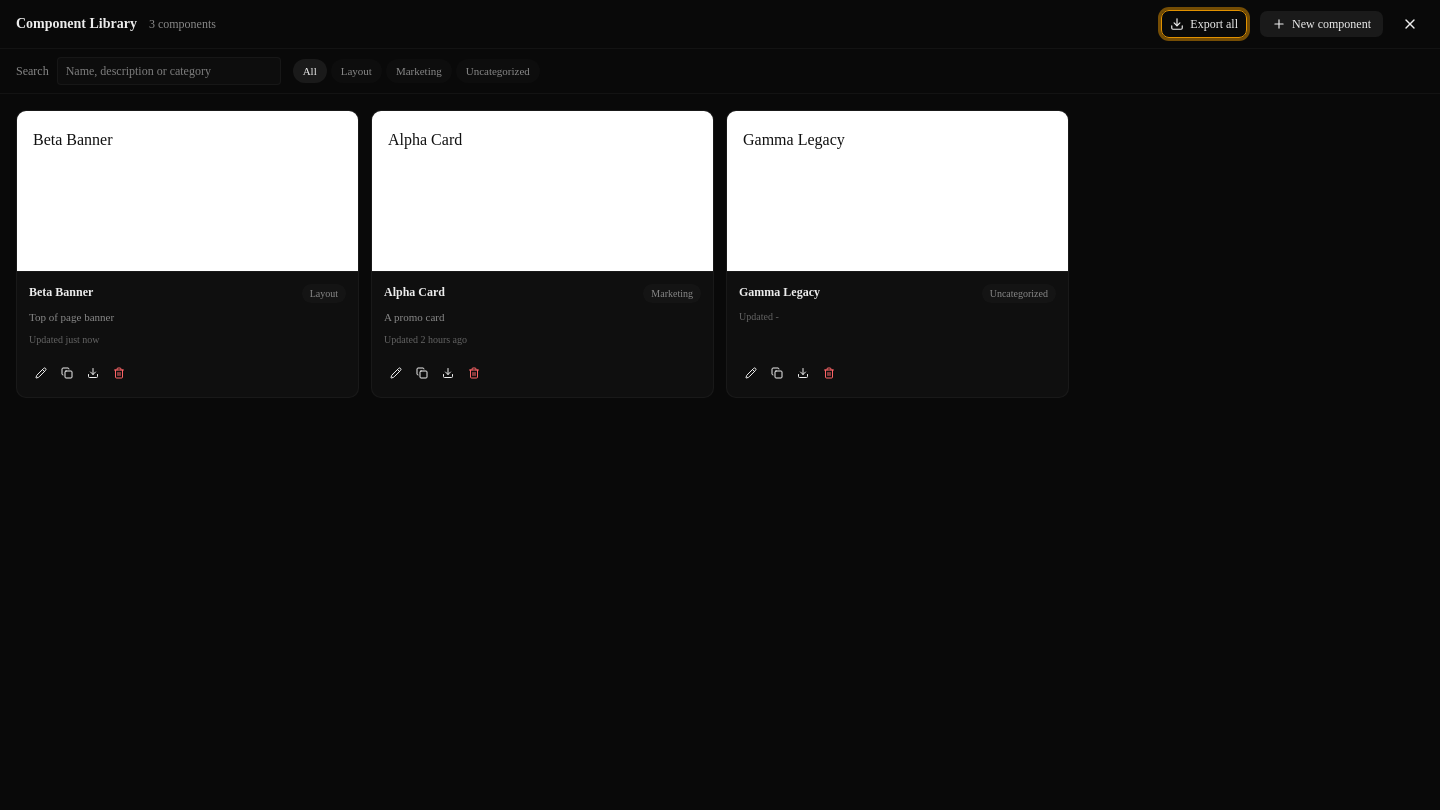
Scenario: ComponentLibrary › does not delete when the confirmation is cancelled
Click the button titled "Delete Alpha Card" at [474, 372], box [462,360,486,384]
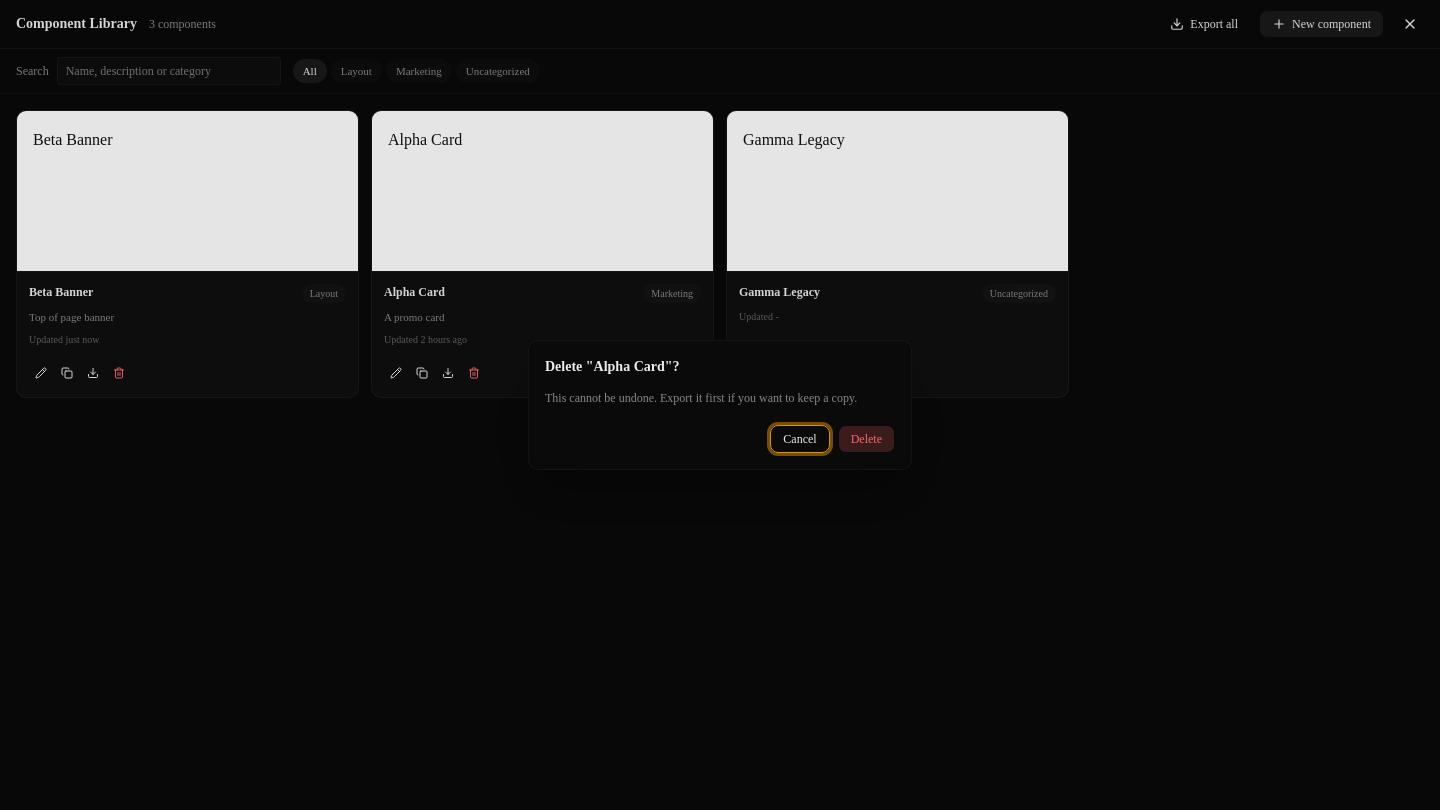
Click the button "Cancel" at [800, 439], box [770,425,830,453]
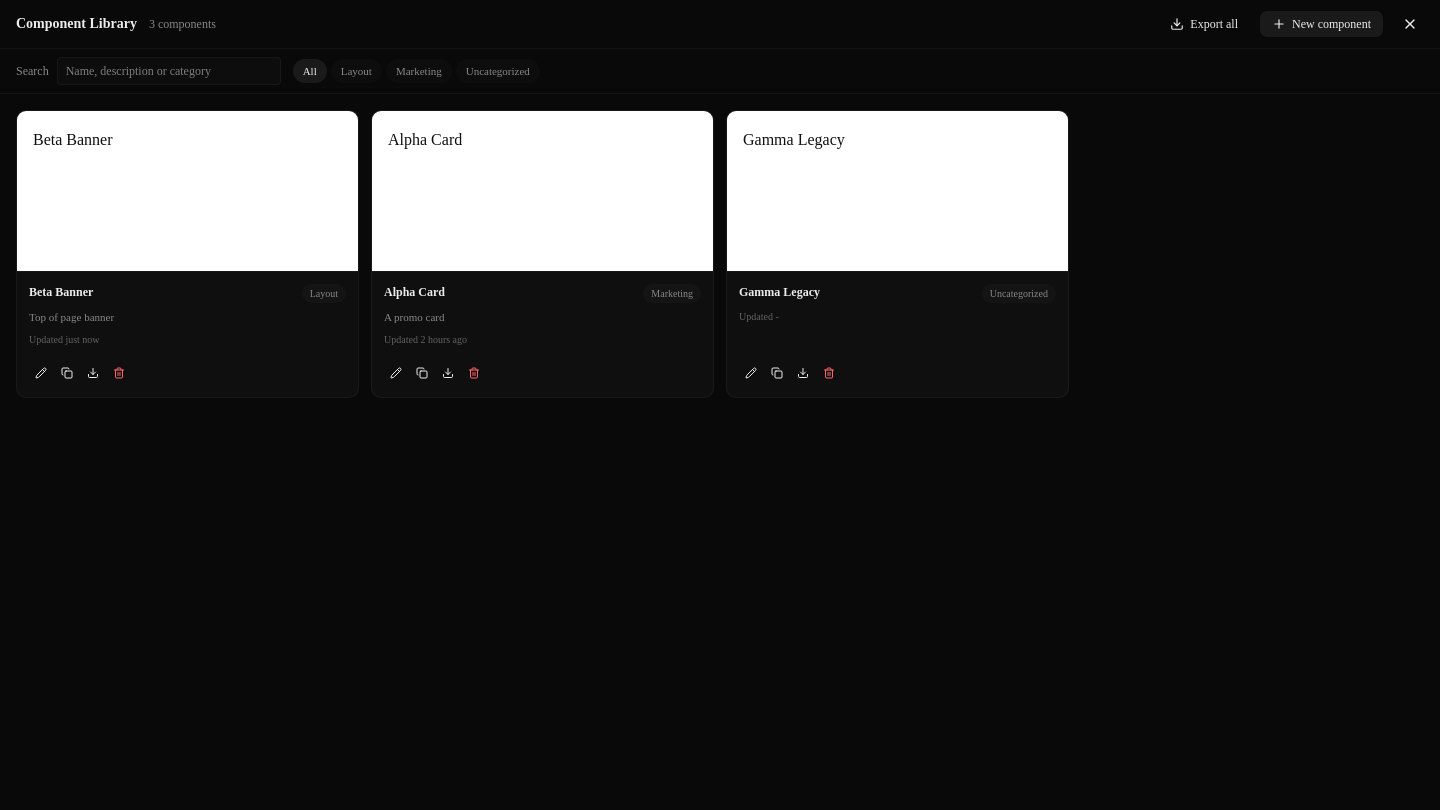
Result: the heading "Delete \"Alpha Card\"?" is gone
